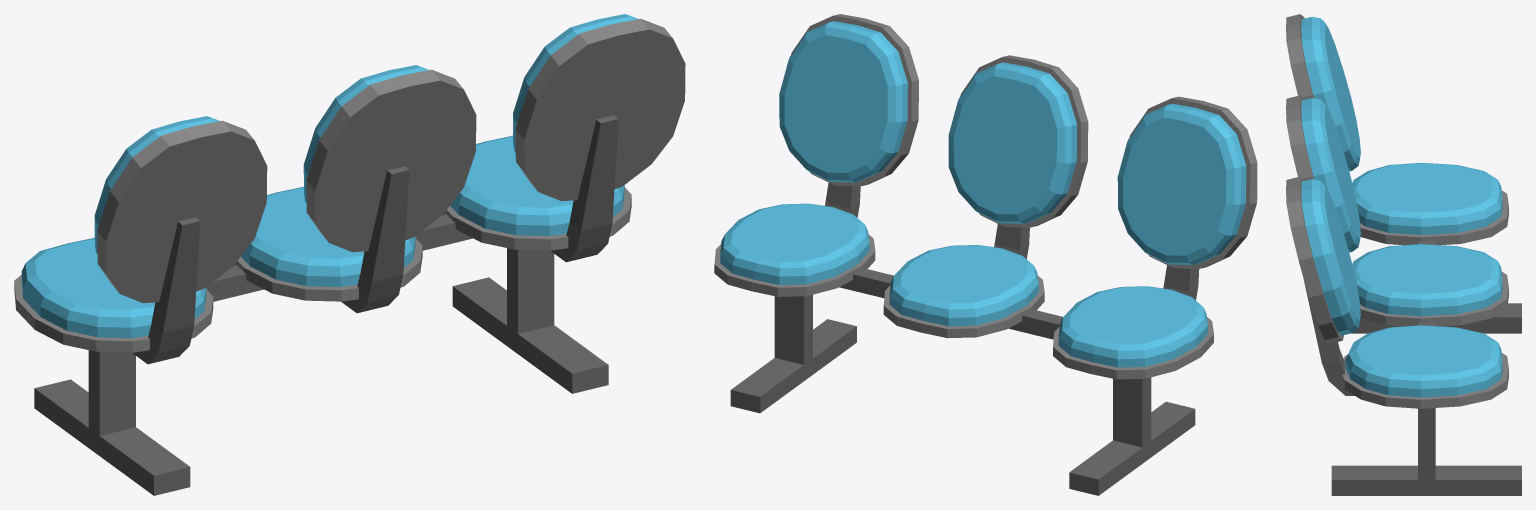
The model's file is chair03-hospital.fbx.
3 views of the same model, side by side, from view 1: azimuth 30°, elevation 25°; view 2: azimuth 150°, elevation 25°; view 3: azimuth 270°, elevation 25° (orthographic). The views are drawn at different scales.
Parts seen in each view (by area): view 1: chair03-hospital; view 2: chair03-hospital; view 3: chair03-hospital.
Part boxes in pixels (left/top/right/bottom): chair03-hospital: left=14, top=14, right=685, bottom=495; chair03-hospital: left=714, top=14, right=1257, bottom=495; chair03-hospital: left=1286, top=14, right=1521, bottom=495.
Size of the model in its own units: 418 by 261 by 185.
